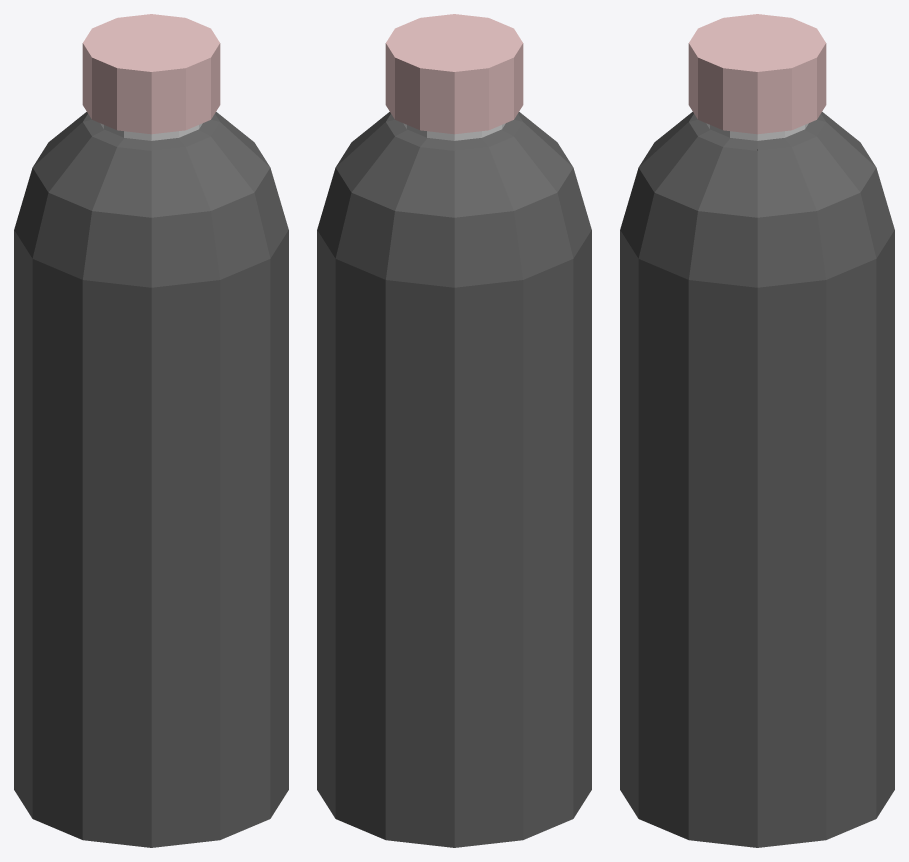
Rendered from BottleObj.obj.
3 views of the same model, side by side, from view 1: azimuth 30°, elevation 25°; view 2: azimuth 150°, elevation 25°; view 3: azimuth 270°, elevation 25° (orthographic).
Parts seen in each view (by area): view 1: cylinder, sphere; view 2: cylinder, sphere; view 3: cylinder, sphere.
Boxes of the visible parts, left/top/right/bottom form: cylinder: left=14, top=14, right=288, bottom=847; sphere: left=14, top=112, right=288, bottom=287; cylinder: left=317, top=14, right=591, bottom=847; sphere: left=317, top=112, right=591, bottom=287; cylinder: left=620, top=14, right=894, bottom=847; sphere: left=620, top=112, right=894, bottom=287.
Size of the model in its own units: 0.25 by 0.75 by 0.25.
Materials: 4 (4 with a texture image).
